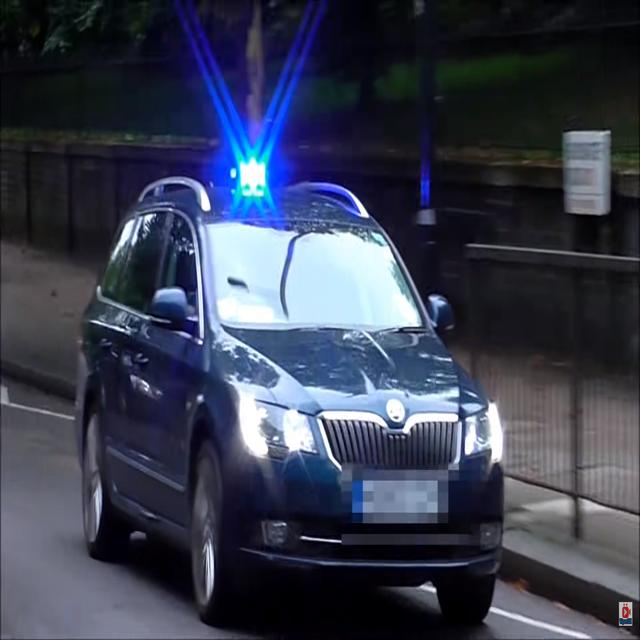emergency-vehicles: (62, 153, 527, 640)
